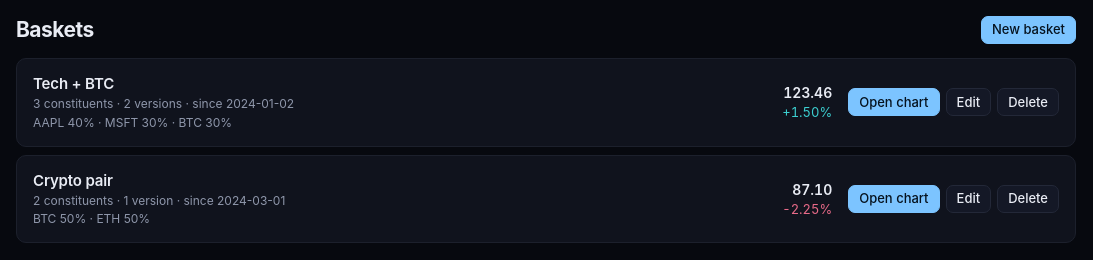
Test: BasketsPage › deletes after confirmation only
Click the button "Delete" in the row of "Crypto pair".
click(1028, 199)  # box [997,185,1059,213]
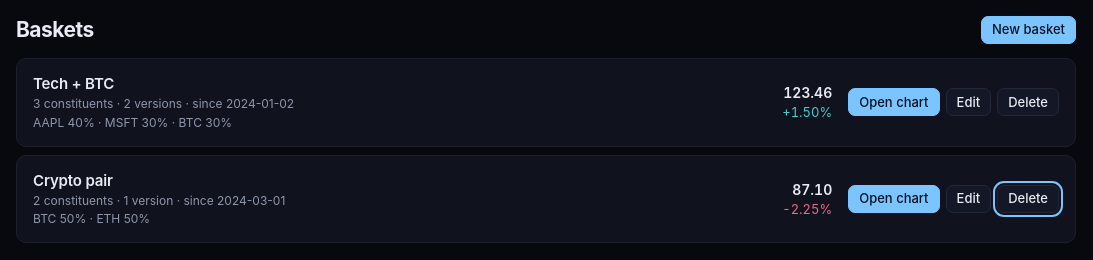
Click the button "Delete" in the row of "Crypto pair".
click(1028, 199)  # box [997,185,1059,213]
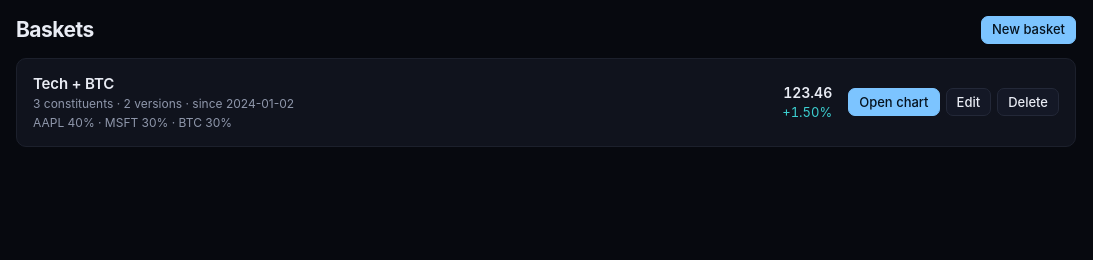
Expected: the text "Crypto pair" is gone
